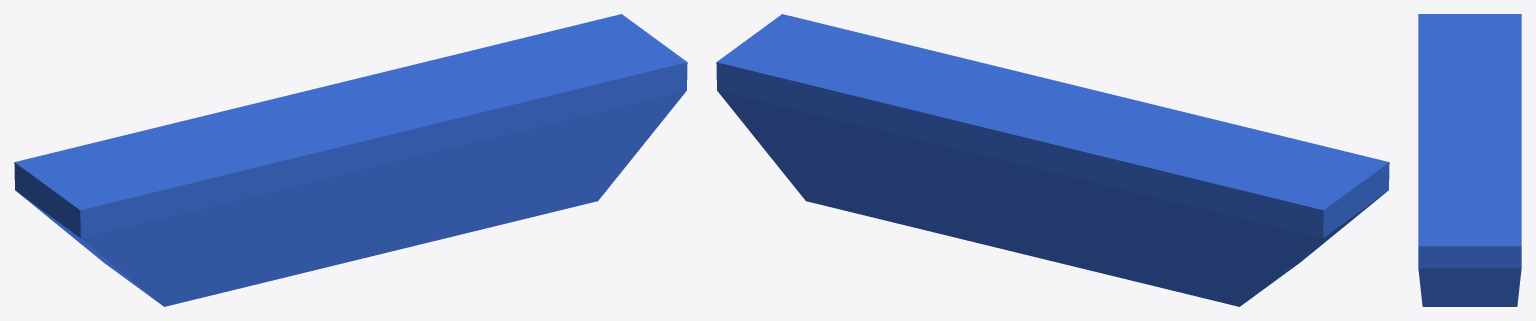
The model's file is Collision_Bench.fbx.
3 renders of one model, left to right at view 1: azimuth 30°, elevation 25°; view 2: azimuth 150°, elevation 25°; view 3: azimuth 270°, elevation 25°, orthographic. The views are drawn at different scales.
Parts seen in each view (by area): view 1: UCX_Bench_1; view 2: UCX_Bench_1; view 3: UCX_Bench_1.
Part boxes in pixels (x1=…): UCX_Bench_1: x1=14, y1=14, x2=687, y2=306; UCX_Bench_1: x1=716, y1=14, x2=1389, y2=306; UCX_Bench_1: x1=1418, y1=14, x2=1521, y2=306.
Bounding box in the file's own units: 279 × 52.56 × 52.37.
